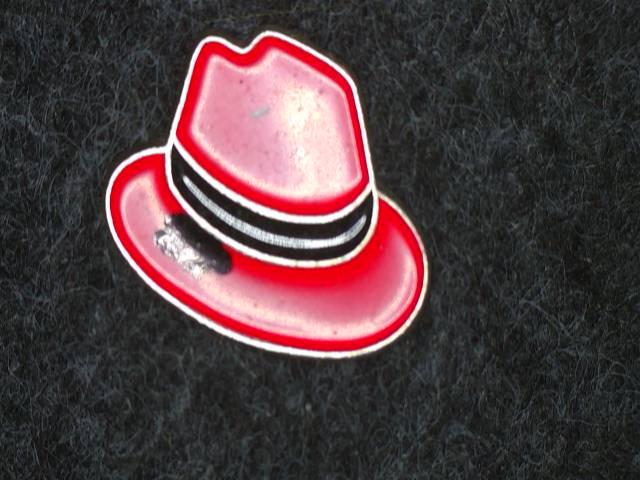Red-Hat: (68, 20, 472, 377)
Scratch: (141, 197, 243, 294)
